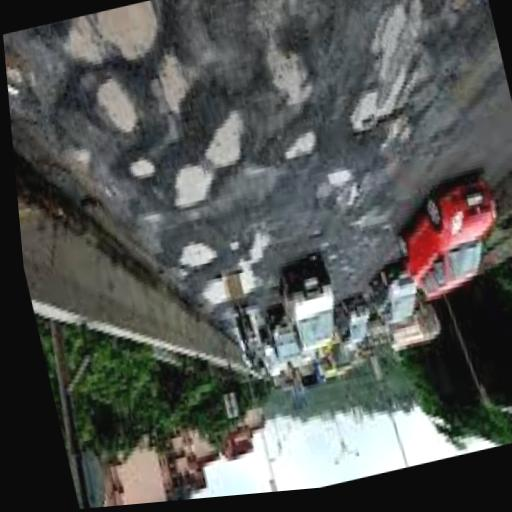pothole: (115, 71, 289, 248), (71, 17, 239, 125), (42, 31, 147, 153), (112, 0, 182, 9)
